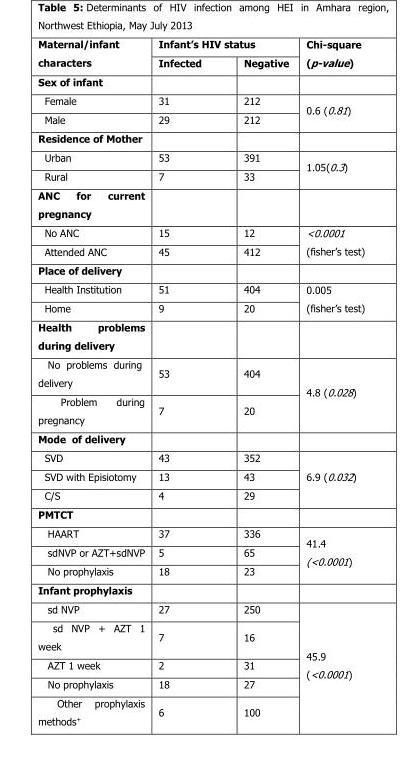table: (37, 37, 364, 726)
table column: (37, 37, 151, 726), (221, 37, 296, 726), (151, 37, 221, 726), (296, 37, 364, 726)
table column header: (37, 37, 364, 71)
table projected row header: (37, 316, 364, 354), (37, 185, 364, 222), (37, 71, 364, 90), (37, 128, 364, 147), (37, 260, 364, 279), (37, 428, 364, 447), (37, 504, 364, 523), (37, 580, 364, 598)
table row: (37, 316, 364, 354), (37, 617, 364, 655), (37, 185, 364, 222), (37, 354, 364, 391), (37, 391, 364, 428), (37, 692, 364, 726), (37, 52, 364, 71), (37, 71, 364, 90), (37, 90, 364, 109), (37, 109, 364, 128), (37, 128, 364, 147), (37, 147, 364, 166), (37, 166, 364, 185), (37, 222, 364, 241), (37, 241, 364, 260), (37, 260, 364, 279), (37, 279, 364, 298), (37, 428, 364, 447), (37, 447, 364, 466), (37, 466, 364, 485), (37, 485, 364, 504), (37, 504, 364, 523), (37, 523, 364, 542), (37, 542, 364, 561), (37, 561, 364, 580), (37, 598, 364, 617), (37, 673, 364, 692), (37, 298, 364, 316), (37, 580, 364, 598), (37, 655, 364, 673), (37, 37, 364, 52)
table spanning cell: (296, 598, 364, 726), (296, 354, 364, 428), (37, 37, 151, 71), (296, 447, 364, 504), (296, 523, 364, 580), (296, 90, 364, 128), (296, 147, 364, 185), (296, 222, 364, 260), (296, 279, 364, 316), (296, 37, 364, 71), (151, 37, 296, 52)
